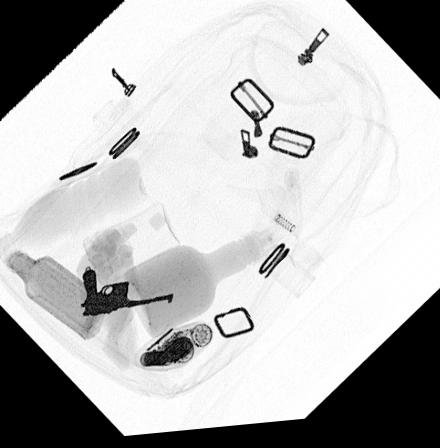Gun: (75, 268, 174, 320)
